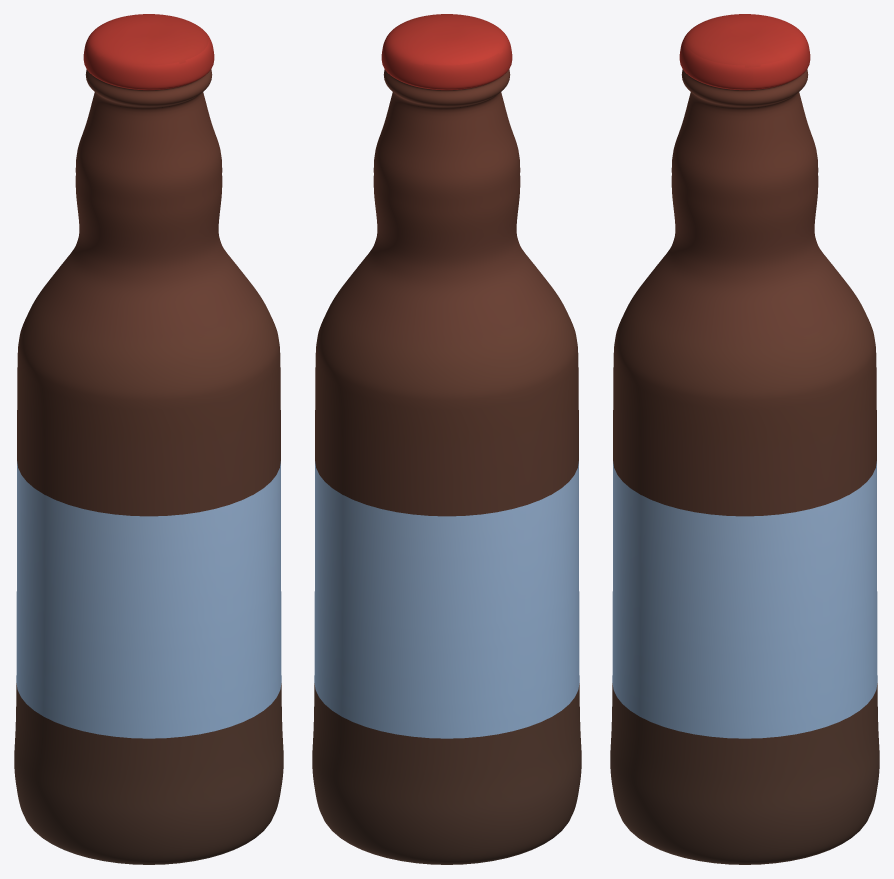
File: GlassBottle1.glb
3 renders of one model, left to right at view 1: azimuth 30°, elevation 25°; view 2: azimuth 150°, elevation 25°; view 3: azimuth 270°, elevation 25°, orthographic.
Visible parts, largest first — view 1: beer; view 2: beer; view 3: beer.
Boxes of the visible parts, x1=… form: beer: x1=14, y1=14, x2=283, y2=864; beer: x1=312, y1=14, x2=581, y2=864; beer: x1=610, y1=14, x2=879, y2=864.
Size of the model in its own units: 0.6561 by 2.13 by 0.6561.
1 material, 1 textured.
